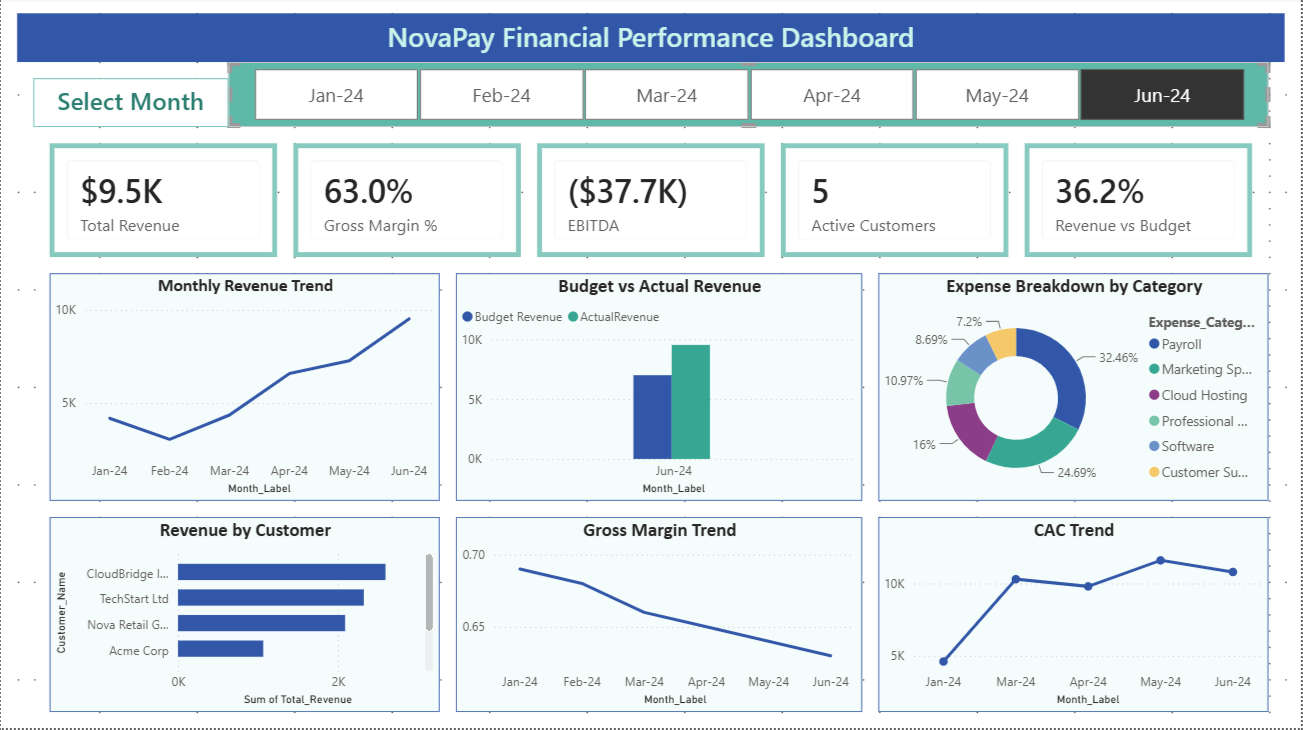

The dashboard page shown, as its layout file describes it:
{"tool":"powerbi","page":{"name":"Executive Dashboard","canvas":[1280,720],"ordinal":0},"visuals":[{"type":"slicer","fields":{"Values":["tblDate.Month_Label"]},"box":[224,64,1024,64],"z":0},{"type":"cardVisual","fields":{"Data":["Monthly_Summary.Total Revenue"]},"box":[48,144,224,112],"z":1000},{"type":"cardVisual","fields":{"Data":["Monthly_Summary.Gross Margin %"]},"box":[288,144,224,112],"z":2000},{"type":"cardVisual","fields":{"Data":["Monthly_Summary.Total EBITDA"]},"box":[528,144,224,112],"z":3000},{"type":"cardVisual","fields":{"Data":["tblKPI.Active Customers KPI"]},"box":[768,144,224,112],"z":4000},{"type":"cardVisual","fields":{"Data":["Monthly_Summary.Revenue vs Budget %"]},"box":[1008,144,224,112],"z":5000},{"type":"lineChart","title":"Monthly Revenue Trend","fields":{"Category":["tblDate.Month_Label"],"Y":["Sum(Monthly_Summary.Actual_Revenue)"]},"box":[48,272,384,224],"z":6000},{"type":"clusteredColumnChart","title":"Budget vs Actual Revenue","fields":{"Category":["tblDate.Month_Label"],"Y":["Sum(Budget_vs_Actual.Budget_Revenue)","Sum(Budget_vs_Actual.Actual_Revenue)"]},"box":[448,272,400,224],"z":7000},{"type":"donutChart","title":"Expense Breakdown by Category","fields":{"Category":["tblExpenses.Expense_Category"],"Y":["Sum(tblExpenses.Actual_Expense)"]},"box":[864,272,384,224],"z":8000},{"type":"barChart","title":"Revenue by Customer","fields":{"Category":["tblCustomers.Customer_Name"],"Y":["Sum(tblRevenue.Total_Revenue)"]},"box":[48,512,384,192],"z":9000},{"type":"lineChart","title":"Gross Margin Trend","fields":{"Category":["tblDate.Month_Label"],"Y":["Avg(tblKPI.Gross_Margin)"]},"box":[448,512,400,192],"z":10000},{"type":"lineChart","title":"CAC Trend","fields":{"Category":["tblDate.Month_Label"],"Y":["Avg(tblKPI.CAC)"]},"box":[864,512,384,192],"z":11000},{"type":"textbox","box":[32,80,192,48],"z":12000},{"type":"textbox","box":[16,16,1248,48],"z":13000}]}

Visuals, with their boxes in screenshot pixels (x1, y1, x2, y2), scaled from the page's 1280x720 canvas onto the 1303x730 screenshot:
slicer - tblDate.Month_Label: [228,65,1270,130]
cardVisual - Monthly_Summary.Total Revenue: [49,146,277,260]
cardVisual - Monthly_Summary.Gross Margin %: [293,146,521,260]
cardVisual - Monthly_Summary.Total EBITDA: [537,146,766,260]
cardVisual - tblKPI.Active Customers KPI: [782,146,1010,260]
cardVisual - Monthly_Summary.Revenue vs Budget %: [1026,146,1254,260]
"Monthly Revenue Trend" lineChart: [49,276,440,503]
"Budget vs Actual Revenue" clusteredColumnChart: [456,276,863,503]
"Expense Breakdown by Category" donutChart: [880,276,1270,503]
"Revenue by Customer" barChart: [49,519,440,714]
"Gross Margin Trend" lineChart: [456,519,863,714]
"CAC Trend" lineChart: [880,519,1270,714]
textbox: [33,81,228,130]
textbox: [16,16,1287,65]
